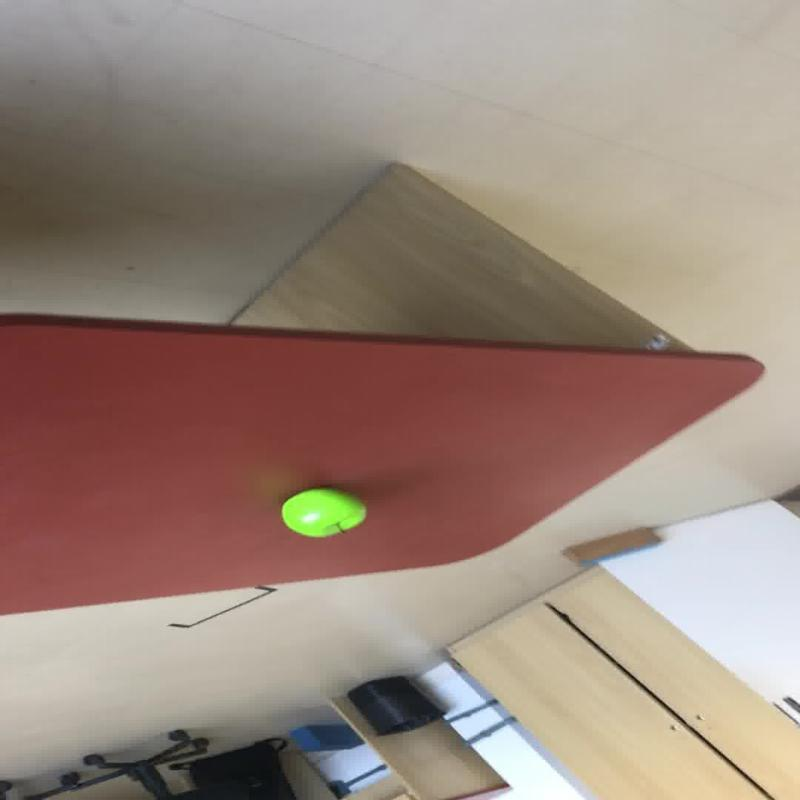apple: (278, 486, 366, 538)
